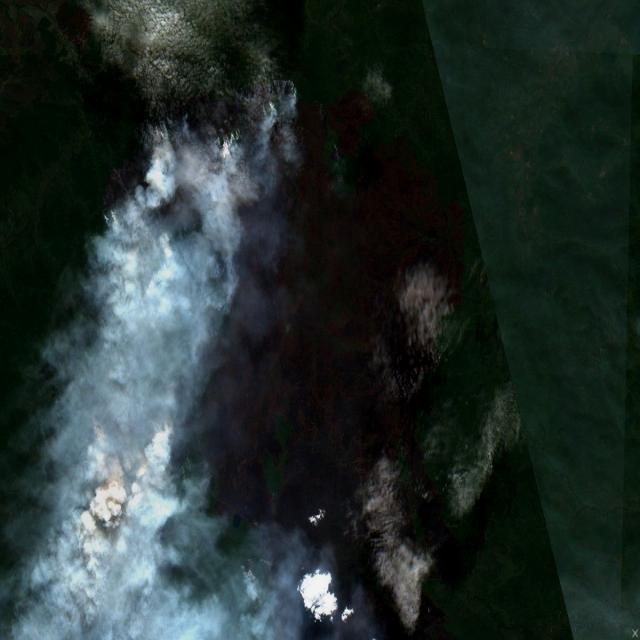fire: (98, 67, 302, 259), (76, 366, 190, 512)
